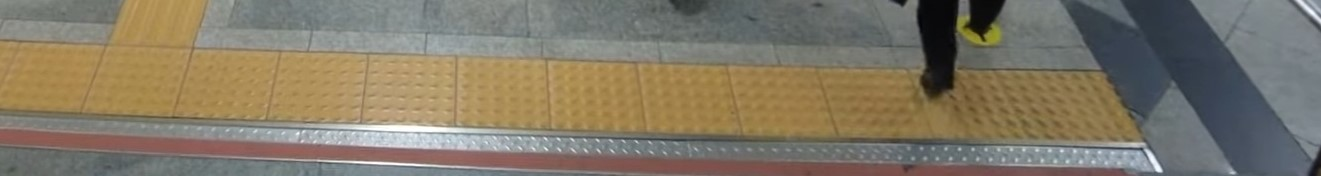warningBlock: (816, 58, 933, 147), (76, 48, 204, 118), (724, 58, 829, 140), (7, 40, 125, 112), (999, 71, 1124, 135), (904, 69, 1014, 137), (358, 58, 458, 132), (542, 48, 636, 126), (456, 57, 547, 133), (627, 64, 730, 129), (279, 65, 374, 129), (188, 56, 276, 111)
